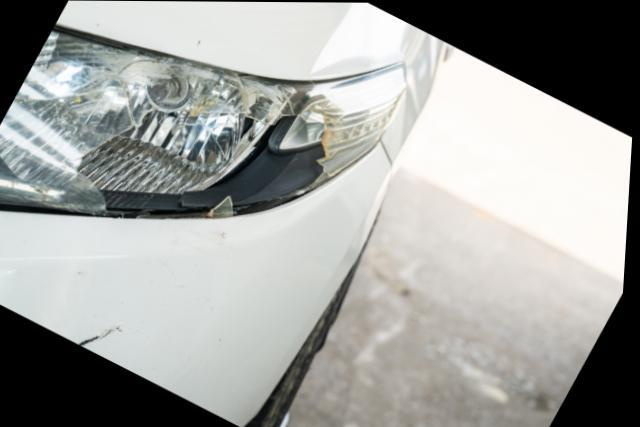lamp broken: (0, 26, 407, 217)
scratch: (83, 324, 126, 347)
